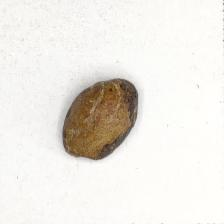NG: (103, 79, 139, 162)
